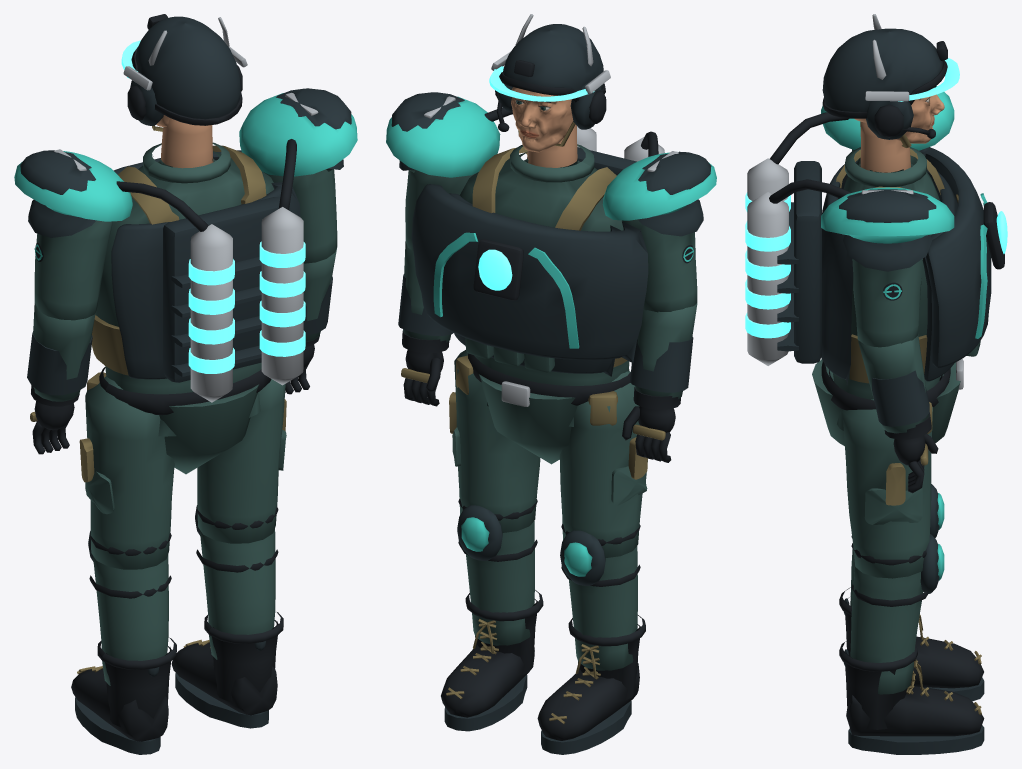
The model's file is kf-aegis.glb.
The picture shows the model from 3 angles, left to right: view 1: azimuth 30°, elevation 25°; view 2: azimuth 150°, elevation 25°; view 3: azimuth 270°, elevation 25°; orthographic projection. The views are drawn at different scales.
Visible parts, largest first — view 1: Torso Ceramic armor, Torso Brushed fittings, ArmorPlates Unit insignia, Leg_R Woven uniform, Torso Woven uniform, Knee_L Rubber and hair, Head Ceramic armor, Leg_L Woven uniform, Knee_R Rubber and hair, Knee_L Woven uniform, Knee_R Woven uniform, Arm_R Woven uniform (+13 smaller); view 2: ArmorPlates Ceramic armor, ArmorPlates Unit insignia, Torso Woven uniform, Leg_R Woven uniform, Leg_L Woven uniform, Knee_R Rubber and hair, Knee_L Rubber and hair, Head Ceramic armor, Knee_L Woven uniform, Knee_R Woven uniform, Torso Webbing, Arm_R Woven uniform (+21 smaller); view 3: Torso Ceramic armor, Knee_L Rubber and hair, Leg_L Woven uniform, ArmorPlates Ceramic armor, ArmorPlates Unit insignia, Head Ceramic armor, Torso Brushed fittings, Knee_L Woven uniform, Torso Woven uniform, Arm_L Woven uniform, Knee_R Rubber and hair, Torso Rubber and hair (+14 smaller).
Part boxes in pixels (left/top/right/bottom): Torso Ceramic armor: left=111, top=182, right=300, bottom=382; Torso Brushed fittings: left=188, top=207, right=305, bottom=402; ArmorPlates Unit insignia: left=14, top=88, right=357, bottom=221; Leg_R Woven uniform: left=85, top=376, right=174, bottom=569; Torso Woven uniform: left=95, top=142, right=274, bottom=474; Knee_L Rubber and hair: left=171, top=507, right=283, bottom=728; Head Ceramic armor: left=127, top=16, right=242, bottom=125; Leg_L Woven uniform: left=197, top=379, right=286, bottom=543; Knee_R Rubber and hair: left=71, top=533, right=176, bottom=754; Knee_L Woven uniform: left=199, top=529, right=275, bottom=659; Knee_R Woven uniform: left=93, top=554, right=168, bottom=685; Arm_R Woven uniform: left=34, top=220, right=112, bottom=320; ArmorPlates Ceramic armor: left=411, top=184, right=648, bottom=362; ArmorPlates Unit insignia: left=386, top=92, right=716, bottom=348; Torso Woven uniform: left=460, top=144, right=629, bottom=464; Leg_R Woven uniform: left=559, top=371, right=648, bottom=558; Leg_L Woven uniform: left=452, top=350, right=540, bottom=532; Knee_R Rubber and hair: left=537, top=523, right=645, bottom=754; Knee_L Rubber and hair: left=441, top=498, right=543, bottom=731; Head Ceramic armor: left=495, top=24, right=606, bottom=129; Knee_L Woven uniform: left=466, top=521, right=534, bottom=645; Knee_R Woven uniform: left=568, top=546, right=637, bottom=670; Torso Webbing: left=456, top=146, right=627, bottom=425; Arm_R Woven uniform: left=622, top=219, right=697, bottom=312; Torso Ceramic armor: left=777, top=161, right=958, bottom=384; Knee_L Rubber and hair: left=839, top=543, right=984, bottom=754; Leg_L Woven uniform: left=842, top=399, right=932, bottom=578; ArmorPlates Ceramic armor: left=919, top=147, right=991, bottom=368; ArmorPlates Unit insignia: left=821, top=85, right=987, bottom=338; Head Ceramic armor: left=822, top=28, right=943, bottom=139; Torso Brushed fittings: left=745, top=158, right=963, bottom=389; Knee_L Woven uniform: left=850, top=566, right=923, bottom=694; Torso Woven uniform: left=812, top=147, right=980, bottom=446; Arm_L Woven uniform: left=852, top=259, right=922, bottom=347; Knee_R Rubber and hair: left=839, top=536, right=984, bottom=701; Torso Rubber and hair: left=769, top=112, right=950, bottom=410.
Bounding box in the file's own units: 0.913 × 1.91 × 0.658.
